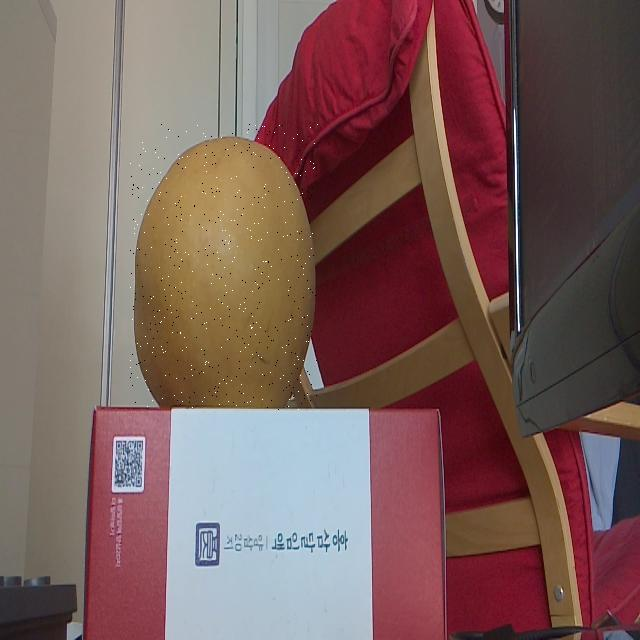pear: (130, 124, 318, 410)
